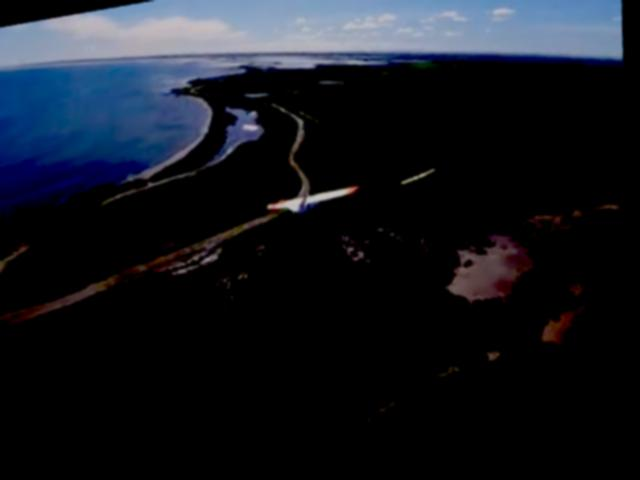uav: (266, 184, 364, 230), (399, 167, 444, 196)
